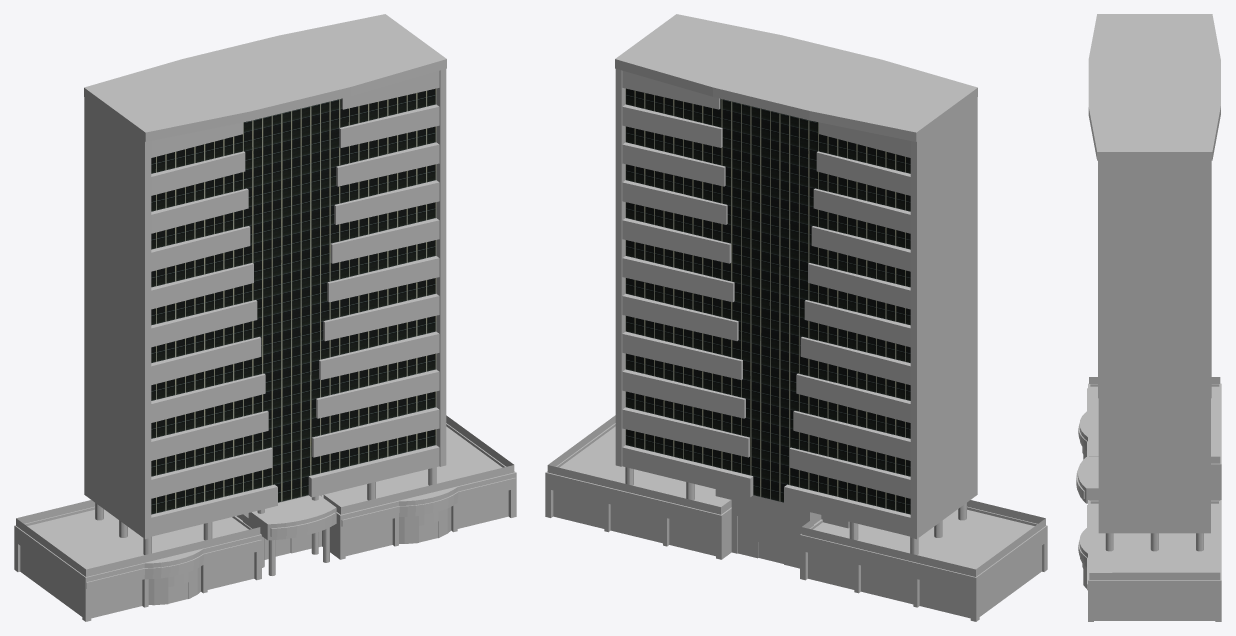
The picture shows the model from 3 angles, left to right: view 1: azimuth 30°, elevation 25°; view 2: azimuth 150°, elevation 25°; view 3: azimuth 270°, elevation 25°; orthographic projection. The views are drawn at different scales.
Parts seen in each view (by area): view 1: BC-P11; view 2: BC-P11; view 3: BC-P11.
Boxes of the visible parts, <box> form: BC-P11: <box>14,14,516,621</box>; BC-P11: <box>545,14,1047,621</box>; BC-P11: <box>1076,14,1221,621</box>.
Size of what is drawn, in the model's own units: 71.44 by 74.5 by 22.27.
